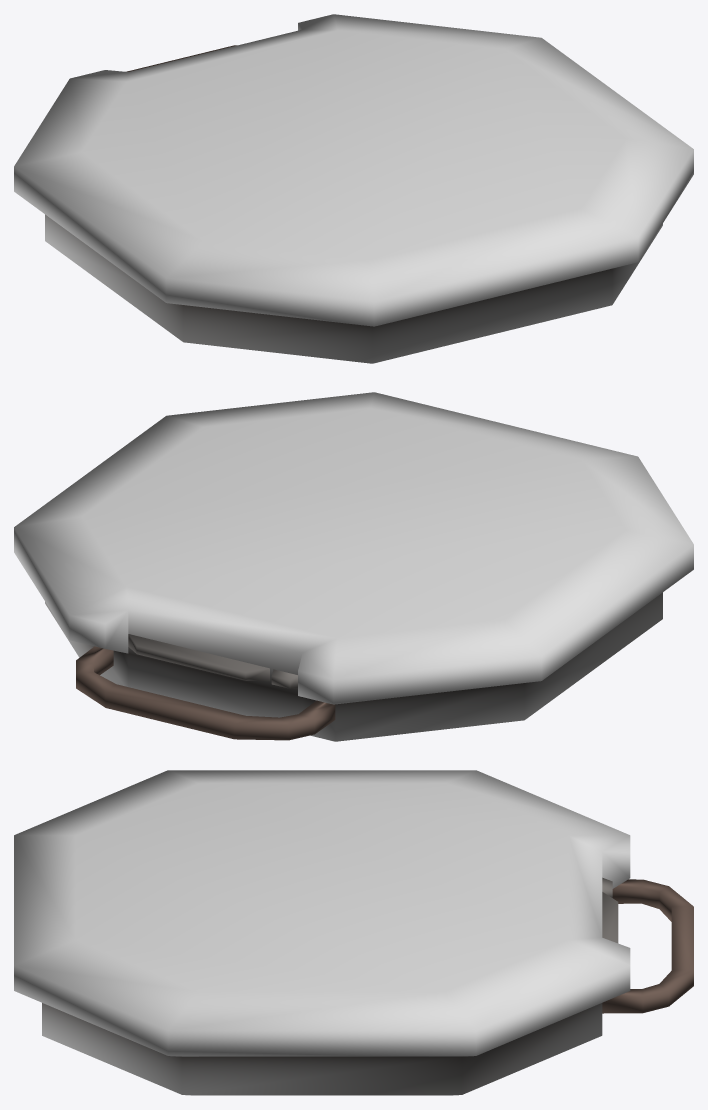
Rendered from medpack_01.dae.
3 renders of one model, top to bottom at view 1: azimuth 30°, elevation 25°; view 2: azimuth 150°, elevation 25°; view 3: azimuth 270°, elevation 25°, orthographic.
Parts seen in each view (by area): view 1: Cube; view 2: Cube; view 3: Cube.
Boxes of the visible parts, bbox=[...] form: Cube: bbox=[14, 14, 693, 363]; Cube: bbox=[14, 392, 693, 741]; Cube: bbox=[14, 770, 693, 1095].
Size of what is drawn, in the model's own units: 0.4116 by 0.4542 by 0.0748.
